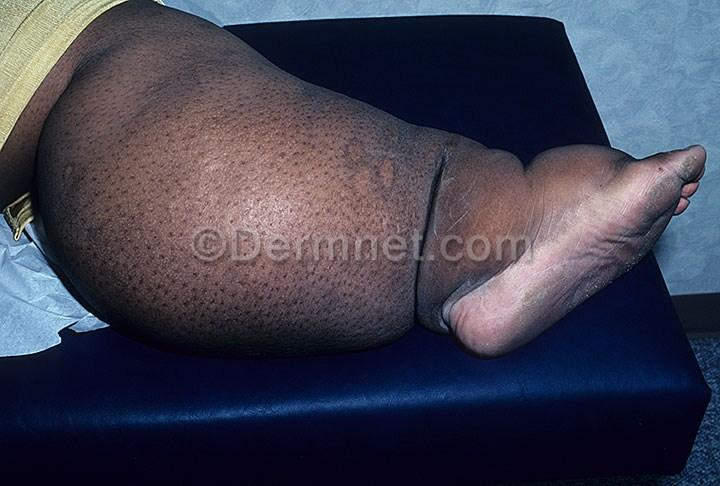Eczema: (246, 176, 324, 279), (38, 117, 128, 185), (156, 209, 225, 293), (236, 110, 303, 193), (179, 77, 243, 157), (185, 157, 249, 233), (121, 138, 184, 215), (42, 190, 109, 257), (84, 268, 161, 325), (290, 150, 348, 223), (141, 65, 200, 132), (347, 171, 405, 237), (269, 80, 326, 147), (111, 9, 182, 61), (326, 238, 381, 304), (168, 285, 228, 345), (236, 261, 295, 322), (351, 276, 410, 337), (83, 61, 148, 115), (401, 135, 463, 190), (311, 104, 366, 164), (381, 236, 436, 295), (223, 49, 272, 114), (183, 21, 231, 80), (359, 117, 410, 172), (108, 212, 161, 264), (303, 281, 353, 336), (456, 143, 507, 195), (386, 180, 434, 228)
